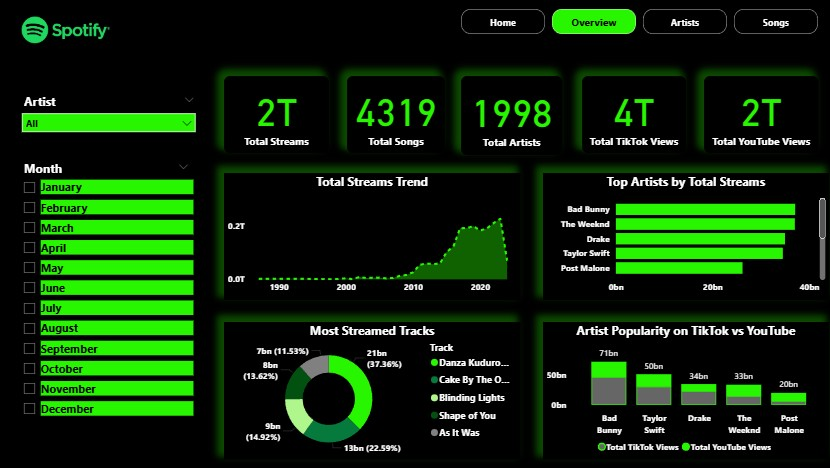

Layout of this report page (visuals, bound fields, positions):
{"tool":"powerbi","page":{"name":"Overview","canvas":[1280,720],"ordinal":1},"visuals":[{"type":"clusteredBarChart","title":"Top Artists by Total Streams","fields":{"Category":["Most Streamed Spotify Songs 2024.Artist"],"Y":["Most Streamed Spotify Songs 2024.Total Streams"]},"box":[823.1,268.8,411.5,183.1],"z":0},{"type":"columnChart","title":"Artist Popularity on TikTok vs YouTube","fields":{"Category":["Most Streamed Spotify Songs 2024.Artist"],"Y":["Most Streamed Spotify Songs 2024.Total TikTok Views","Most Streamed Spotify Songs 2024.Total YouTube Views"]},"box":[823.1,483.8,411.5,198.2],"z":1000},{"type":"image","box":[0,16.7,273.3,91.7],"z":2000},{"type":"donutChart","title":"Most Streamed Tracks","fields":{"Category":["Most Streamed Spotify Songs 2024.Track"],"Y":["Most Streamed Spotify Songs 2024.Total Streams"]},"box":[364.5,483.8,426.7,198.2],"z":3000},{"type":"card","fields":{"Values":["Most Streamed Spotify Songs 2024.Total Streams"]},"box":[364.5,129.3,151.2,110.9],"z":4000},{"type":"areaChart","title":"Total Streams Trend","fields":{"Category":["Most Streamed Spotify Songs 2024.Release Date.Variation.Date Hierarchy.Year","Most Streamed Spotify Songs 2024.Release Date.Variation.Date Hierarchy.Month"],"Y":["Most Streamed Spotify Songs 2024.Total Streams"]},"box":[364.5,268.8,426.7,183.1],"z":5000},{"type":"card","fields":{"Values":["Most Streamed Spotify Songs 2024.Total Songs"]},"box":[540.9,129.3,141.1,110.9],"z":6000},{"type":"card","fields":{"Values":["Most Streamed Spotify Songs 2024.Total Artists"]},"box":[705.5,129.3,146.1,114.2],"z":7000},{"type":"card","fields":{"Values":["Most Streamed Spotify Songs 2024.Total TikTok Views"]},"box":[880.2,129.3,149.5,110.9],"z":8000},{"type":"card","fields":{"Values":["Most Streamed Spotify Songs 2024.Total YouTube Views"]},"box":[1054.9,129.3,164.6,110.9],"z":9000},{"type":"slicer","fields":{"Values":["Most Streamed Spotify Songs 2024.Artist"]},"box":[63.8,147.8,270.4,68.9],"z":11000},{"type":"slicer","fields":{"Values":["Most Streamed Spotify Songs 2024.Release Date.Variation.Date Hierarchy.Month"]},"box":[63.8,245.2,262,411.5],"z":12000},{"type":"pageNavigator","box":[705,33.3,515,36.7],"z":12001}]}

Visuals, with their boxes in screenshot pixels (x1, y1, x2, y2), scaled from the page's 1280x720 canvas onto the 830x468 screenshot:
"Top Artists by Total Streams" clusteredBarChart: region(534, 175, 801, 294)
"Artist Popularity on TikTok vs YouTube" columnChart: region(534, 314, 801, 443)
image: region(0, 11, 177, 70)
"Most Streamed Tracks" donutChart: region(236, 314, 513, 443)
card - Most Streamed Spotify Songs 2024.Total Streams: region(236, 84, 334, 156)
"Total Streams Trend" areaChart: region(236, 175, 513, 294)
card - Most Streamed Spotify Songs 2024.Total Songs: region(351, 84, 442, 156)
card - Most Streamed Spotify Songs 2024.Total Artists: region(457, 84, 552, 158)
card - Most Streamed Spotify Songs 2024.Total TikTok Views: region(571, 84, 668, 156)
card - Most Streamed Spotify Songs 2024.Total YouTube Views: region(684, 84, 791, 156)
slicer - Most Streamed Spotify Songs 2024.Artist: region(41, 96, 217, 141)
slicer - Most Streamed Spotify Songs 2024.Release Date.Variation.Date Hierarchy.Month: region(41, 159, 211, 427)
pageNavigator: region(457, 22, 791, 46)
